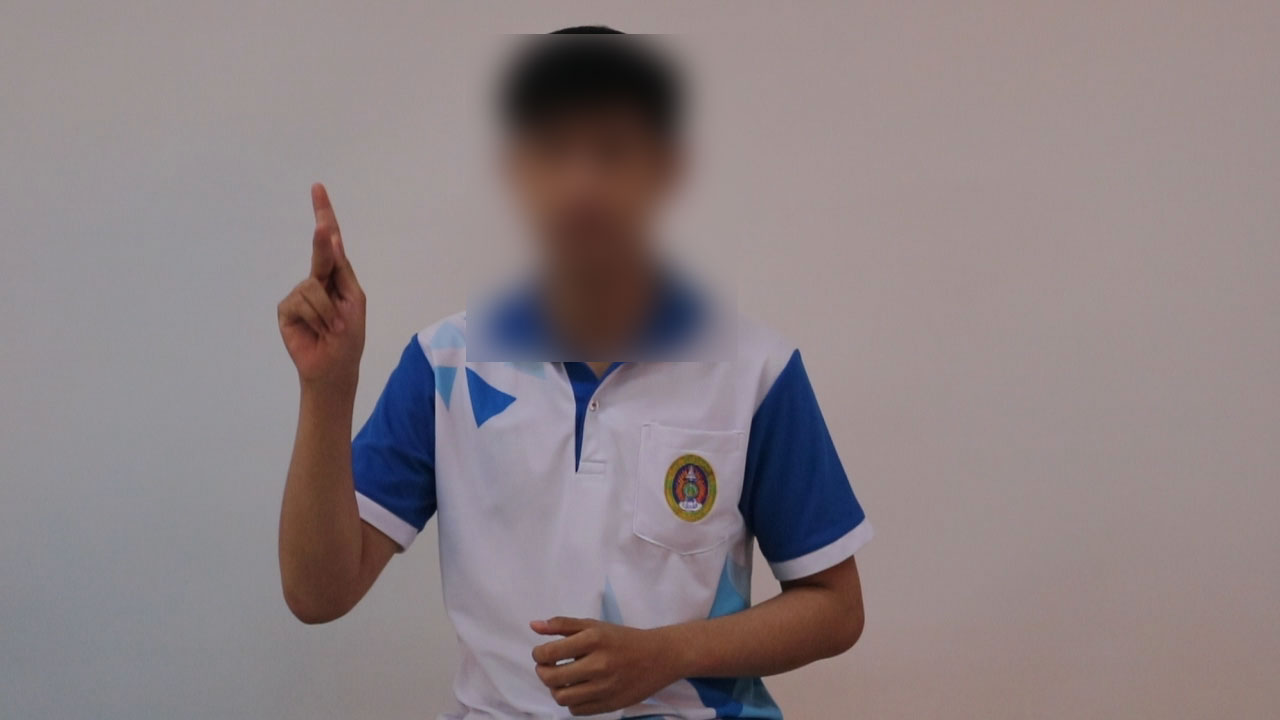ko: (201, 165, 464, 445)
